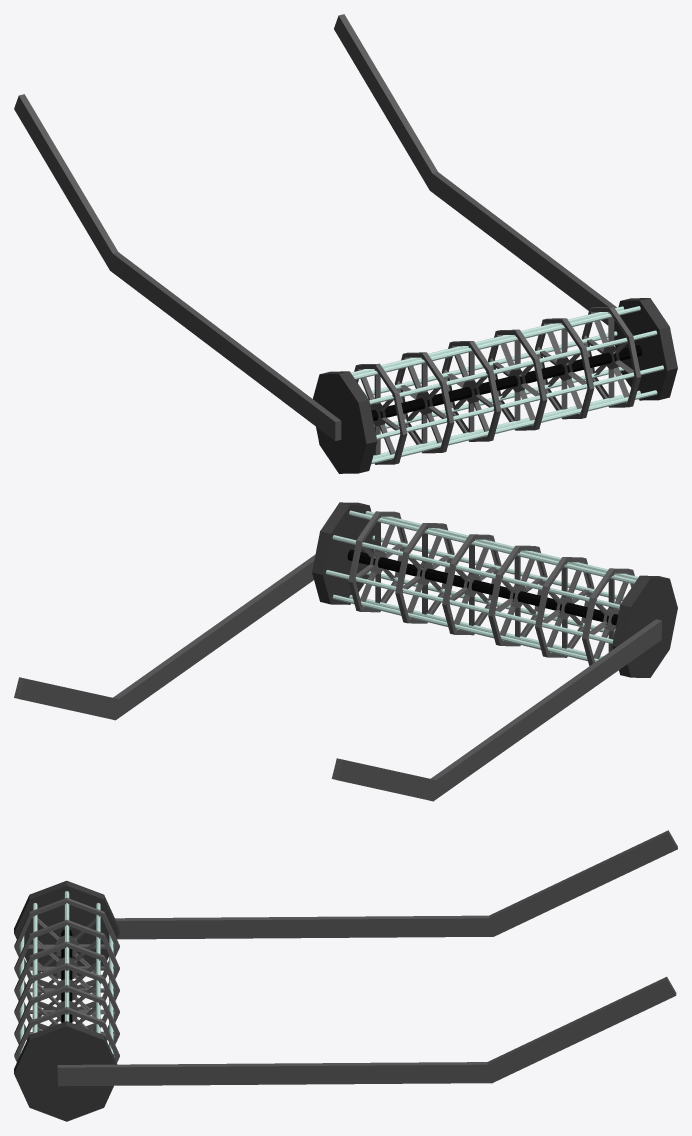
File: machine.glb
3 renders of one model, top to bottom at view 1: azimuth 30°, elevation 25°; view 2: azimuth 150°, elevation 25°; view 3: azimuth 270°, elevation 25°, orthographic. The views are drawn at different scales.
Parts seen in each view (by area): view 1: Cylinder, Plane.001; view 2: Cylinder, Plane.001; view 3: Plane.001, Cylinder.
Boxes of the visible parts, x1=… form: Cylinder: x1=313, y1=298, x2=677, y2=473; Plane.001: x1=14, y1=14, x2=616, y2=440; Cylinder: x1=312, y1=502, x2=677, y2=677; Plane.001: x1=14, y1=554, x2=661, y2=801; Plane.001: x1=57, y1=830, x2=677, y2=1086; Cylinder: x1=14, y1=880, x2=119, y2=1121.
Size of the model in its own units: 2.23 by 0.9943 by 4.1.
